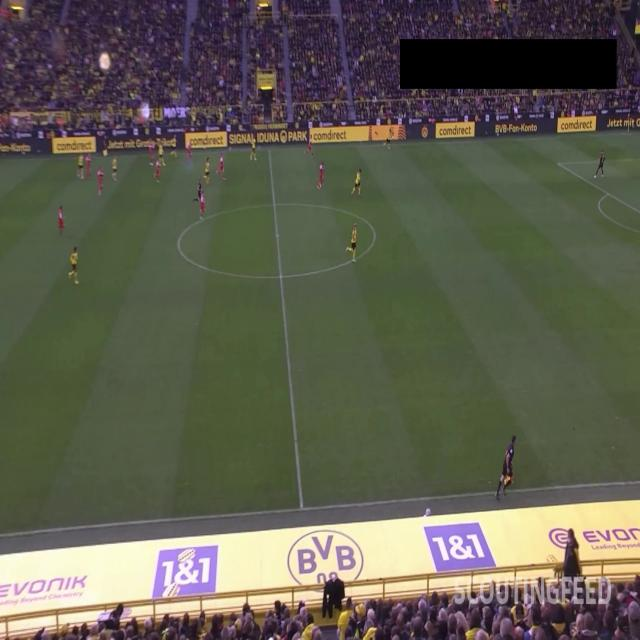GoalKeeper: (593, 149, 606, 179)
Referee: (496, 435, 516, 501), (192, 178, 202, 205), (102, 132, 110, 158)
TEAM 1: (215, 151, 227, 182), (97, 165, 105, 196), (317, 161, 325, 190), (305, 134, 314, 159), (85, 152, 93, 180), (200, 190, 207, 220), (154, 158, 162, 184), (58, 204, 64, 237), (148, 138, 154, 166), (185, 140, 192, 162)
TEAM 2: (345, 223, 358, 262), (68, 247, 80, 286), (351, 168, 363, 200), (156, 140, 168, 167), (169, 134, 179, 160), (249, 134, 258, 162), (202, 156, 211, 184), (76, 153, 85, 180), (111, 155, 118, 182), (384, 128, 392, 150)
